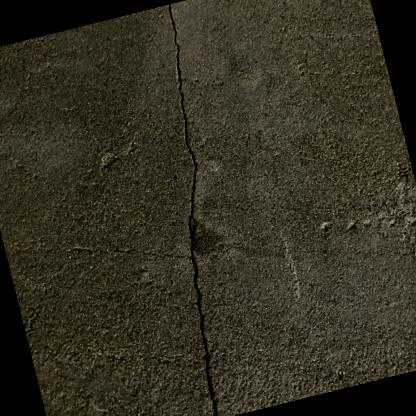crack: (167, 3, 217, 416)
